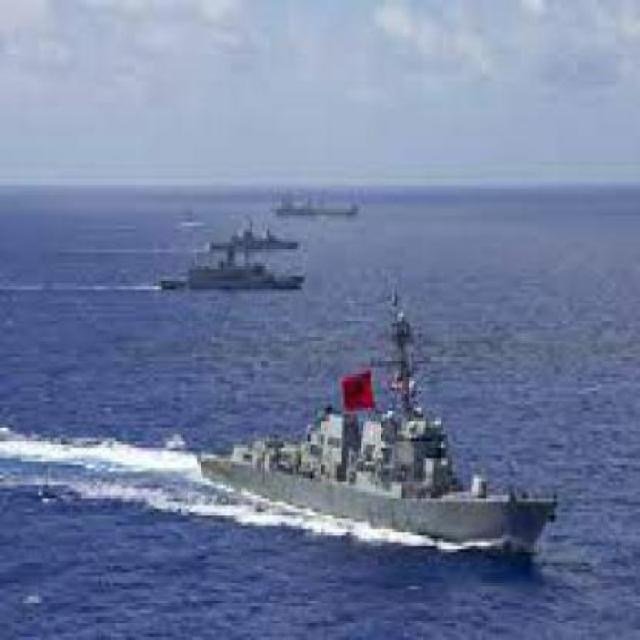warship2: (188, 297, 563, 574), (159, 243, 312, 305), (199, 214, 316, 254)
